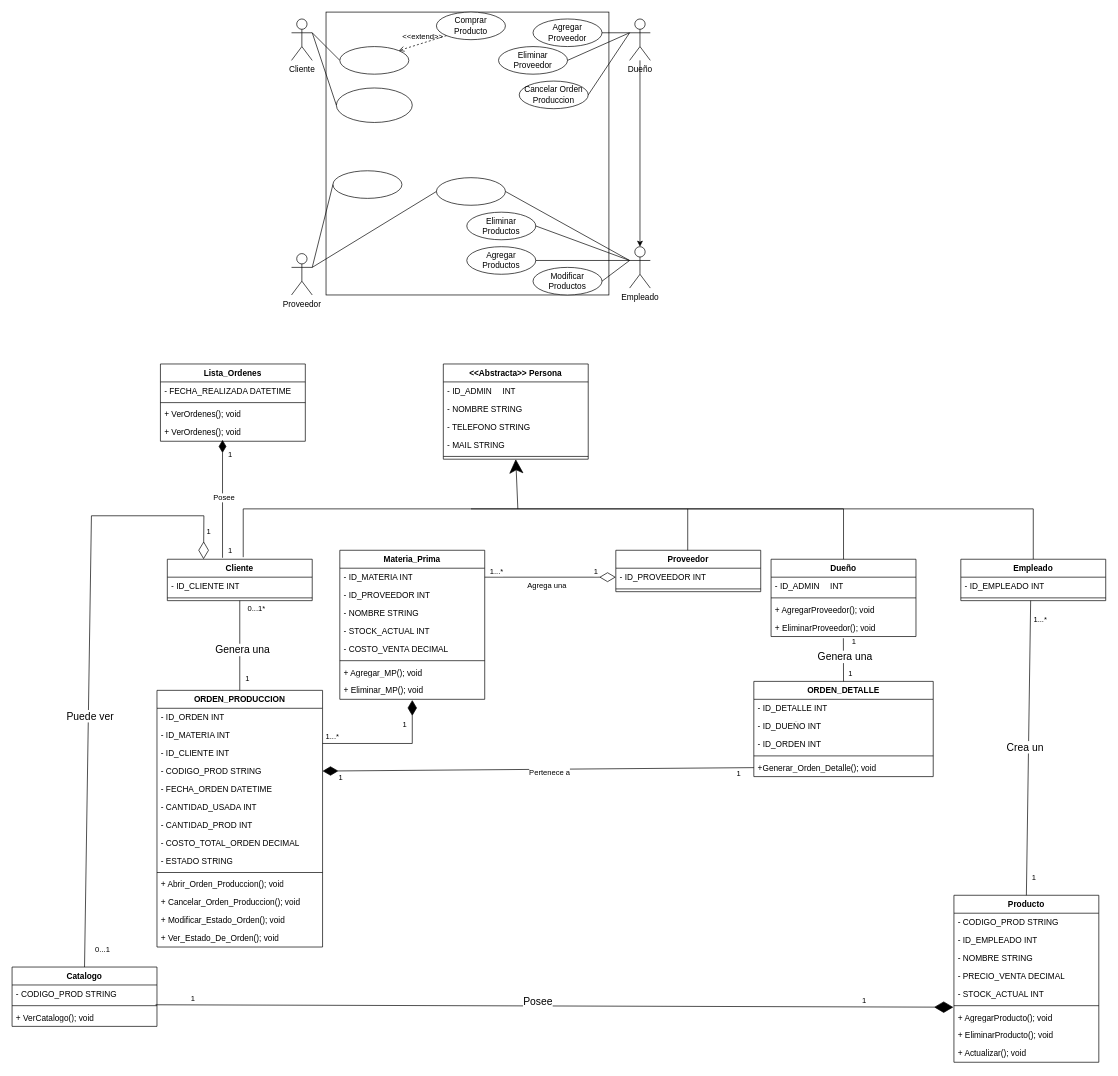
This 1118x1076 diagram has some shape labels left out. Here are the shapes that lost their labels. From the top down, the centre of each, then its label:
At [374,60]: "Ver Catalogo".
At [374,104]: "Generar Orden de Produccion".
At [367,184]: "Agregar Materias Primas".
At [470,191]: "Ver Productos".
